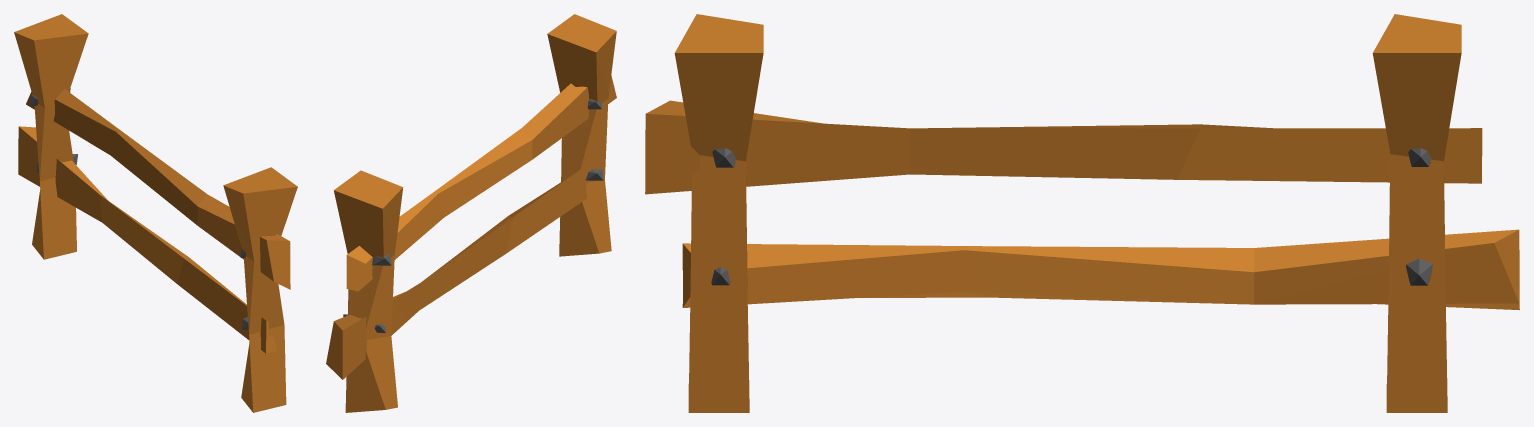
Rendered from fence.glb.
3 renders of one model, left to right at view 1: azimuth 30°, elevation 25°; view 2: azimuth 150°, elevation 25°; view 3: azimuth 270°, elevation 25°, orthographic. The views are drawn at different scales.
Parts seen in each view (by area): view 1: node-0; view 2: node-0; view 3: node-0.
Part boxes in pixels (x1,y1,x2,y2): node-0: [14, 14, 297, 412]; node-0: [326, 14, 616, 412]; node-0: [645, 14, 1519, 412].
Bounding box in the file's own units: 0.4778 × 1.95 × 4.21.
